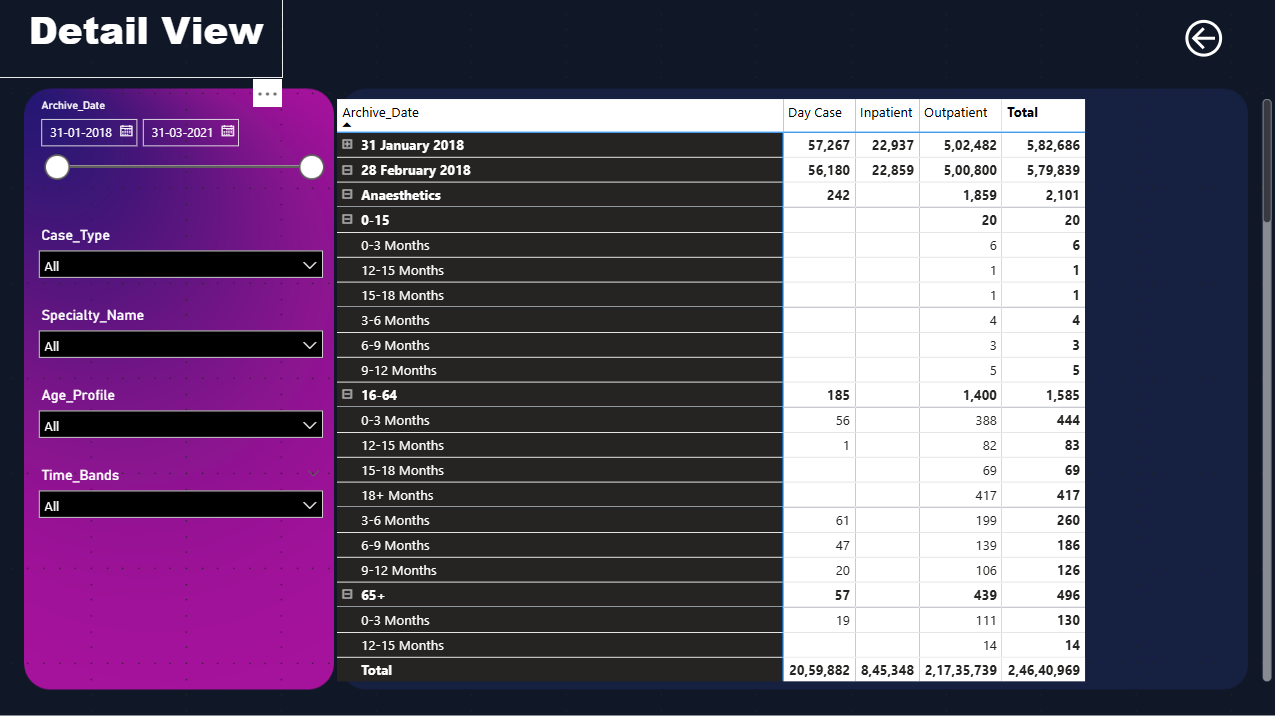

This screenshot's page, from the dashboard's own definition file:
{"tool":"powerbi","page":{"name":"Detail","canvas":[1280,720],"ordinal":1},"visuals":[{"type":"slicer","fields":{"Values":["All_Data.Case_Type"]},"box":[32,224,304,64],"z":0},{"type":"textbox","box":[0,0,288,80],"z":1000},{"type":"slicer","fields":{"Values":["All_Data.Archive_Date"]},"box":[32,96,304,112],"z":2000},{"type":"slicer","fields":{"Values":["All_Data.Specialty_Name"]},"box":[32,304,304,64],"z":3000},{"type":"slicer","fields":{"Values":["All_Data.Age_Profile"]},"box":[32,384,304,64],"z":4000},{"type":"slicer","fields":{"Values":["All_Data.Time_Bands"]},"box":[32,464,304,64],"z":5000},{"type":"pivotTable","fields":{"Rows":["All_Data.Archive_Date","All_Data.Specialty_Name","All_Data.Age_Profile","All_Data.Time_Bands"],"Columns":["All_Data.Case_Type"],"Values":["Sum(All_Data.Total)"]},"box":[336,96,944,592],"z":6000},{"type":"actionButton","box":[1184,16,96,48],"z":7000}]}

Visuals, with their boxes in screenshot pixels (x1, y1, x2, y2), scaled from the page's 1280x720 canvas onto the 1275x716 screenshot:
slicer - All_Data.Case_Type: <bbox>32, 223, 335, 286</bbox>
textbox: <bbox>0, 0, 287, 80</bbox>
slicer - All_Data.Archive_Date: <bbox>32, 95, 335, 207</bbox>
slicer - All_Data.Specialty_Name: <bbox>32, 302, 335, 366</bbox>
slicer - All_Data.Age_Profile: <bbox>32, 382, 335, 446</bbox>
slicer - All_Data.Time_Bands: <bbox>32, 461, 335, 525</bbox>
pivotTable - All_Data.Archive_Date x All_Data.Specialty_Name: <bbox>335, 95, 1274, 684</bbox>
actionButton: <bbox>1179, 16, 1274, 64</bbox>
